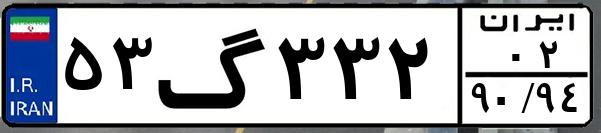0: (508, 27, 537, 80), (495, 70, 520, 125)
2: (385, 28, 445, 110), (537, 27, 568, 80)
3: (270, 28, 330, 110), (330, 28, 385, 110), (110, 28, 156, 98)
4: (560, 70, 590, 125)
5: (57, 26, 110, 100)
9: (470, 70, 495, 125), (535, 70, 560, 125)
گ: (156, 12, 270, 120)
